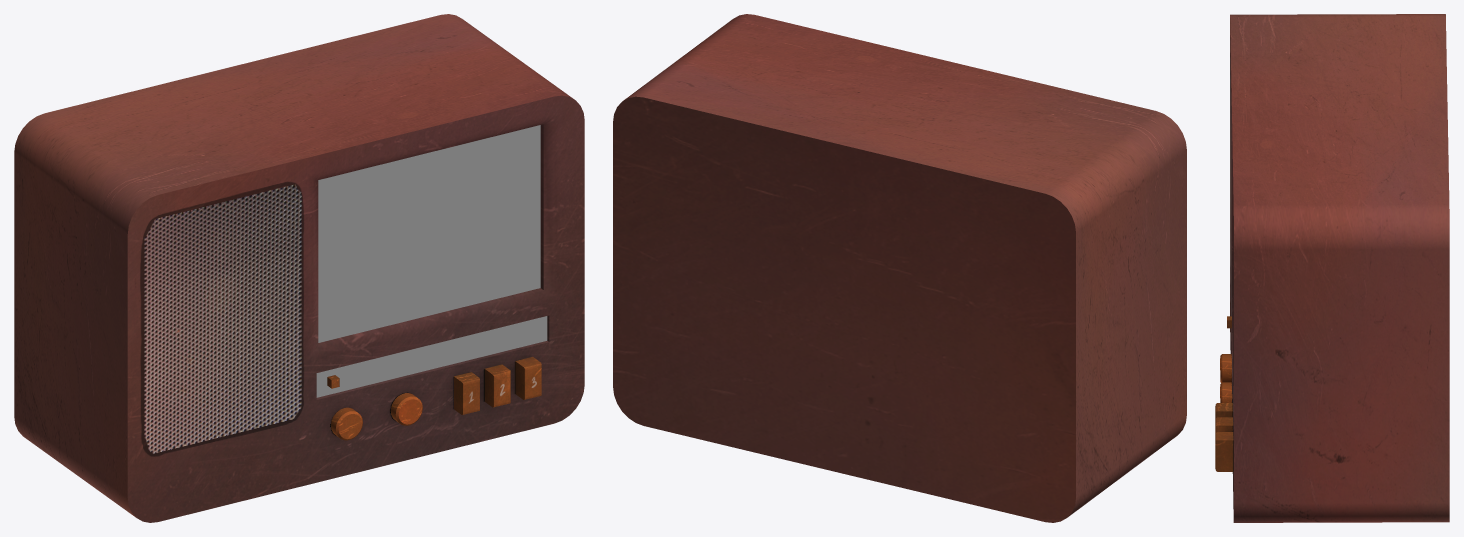
The model's file is Radio.fbx.
The picture shows the model from 3 angles, left to right: view 1: azimuth 30°, elevation 25°; view 2: azimuth 150°, elevation 25°; view 3: azimuth 270°, elevation 25°; orthographic projection. The views are drawn at different scales.
Parts seen in each view (by area): view 1: Radio, Screen, Button3, Button2, Button1, Dial2, Dial1; view 2: Radio; view 3: Radio, Button3, Dial1.
Boxes of the visible parts, bbox=[...] form: Radio: bbox=[14, 14, 584, 522]; Screen: bbox=[316, 125, 547, 397]; Button3: bbox=[515, 356, 541, 399]; Button2: bbox=[484, 364, 510, 407]; Button1: bbox=[454, 372, 479, 414]; Dial2: bbox=[390, 392, 422, 425]; Dial1: bbox=[331, 407, 362, 440]; Radio: bbox=[613, 14, 1186, 522]; Radio: bbox=[1230, 14, 1449, 522]; Button3: bbox=[1215, 432, 1233, 471]; Dial1: bbox=[1220, 354, 1231, 382].
Bounding box in the file's own units: 0.5034 × 0.3416 × 0.2303.
2 materials, 1 textured.
